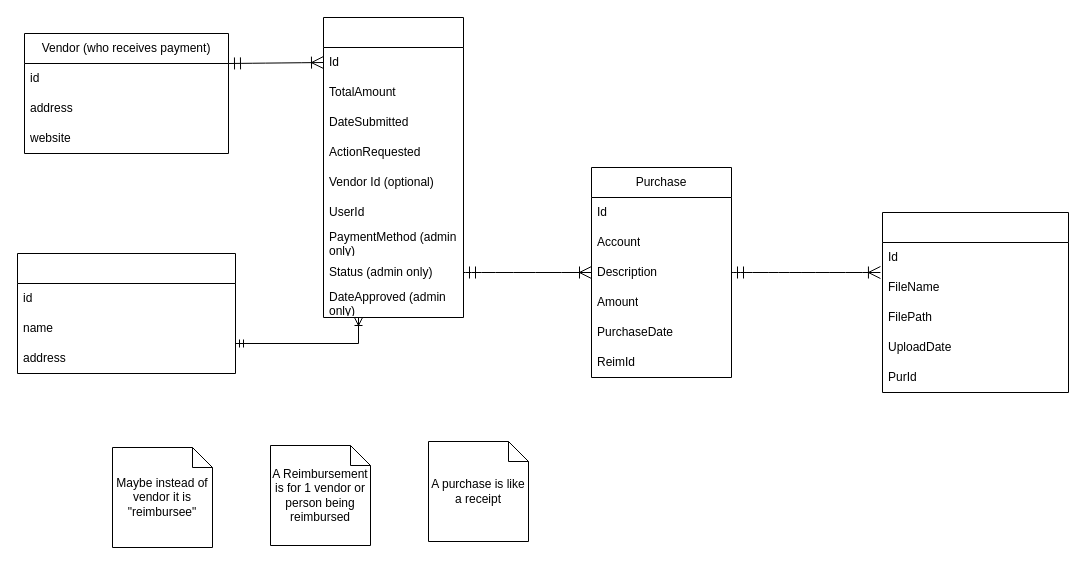
Image size: 1086x565. Some labels were removed from this diagram. The box of each missing label's shape, as (x1, y1, x2, y2) in pixels:
Receipt: (882, 212, 1068, 392)
Reimbursement: (322, 16, 464, 318)
User (probably the one used for authentication with some extra info): (16, 252, 236, 374)
